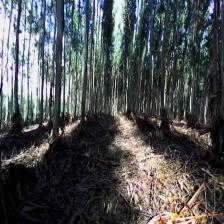trunk: (209, 0, 224, 165), (51, 6, 65, 146), (78, 15, 90, 133), (160, 11, 169, 133), (12, 14, 21, 128), (144, 24, 154, 120)
